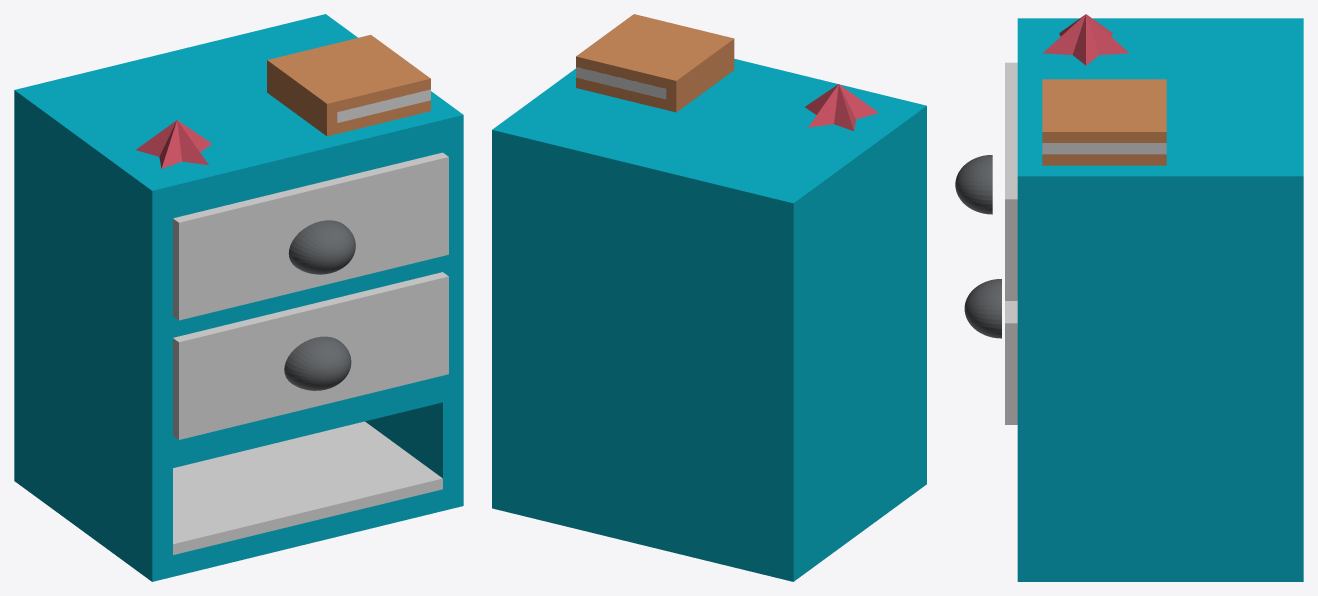
The model's file is Side Table.glb.
3 views of the same model, side by side, from view 1: azimuth 30°, elevation 25°; view 2: azimuth 150°, elevation 25°; view 3: azimuth 270°, elevation 25° (orthographic). The views are drawn at different scales.
Visible parts, largest first — view 1: Mesh_Mesh_head_geo.001_lambert2SG.001; view 2: Mesh_Mesh_head_geo.001_lambert2SG.001; view 3: Mesh_Mesh_head_geo.001_lambert2SG.001.
Part boxes in pixels (x1,y1,x2,y2): Mesh_Mesh_head_geo.001_lambert2SG.001: (14,14,463,581); Mesh_Mesh_head_geo.001_lambert2SG.001: (492,14,926,581); Mesh_Mesh_head_geo.001_lambert2SG.001: (955,14,1303,581).
Size of the model in its own units: 30 by 39 by 28.
